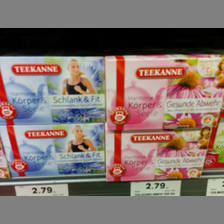tea: (105, 54, 223, 130), (1, 55, 108, 124), (1, 125, 107, 182), (106, 126, 211, 181)
